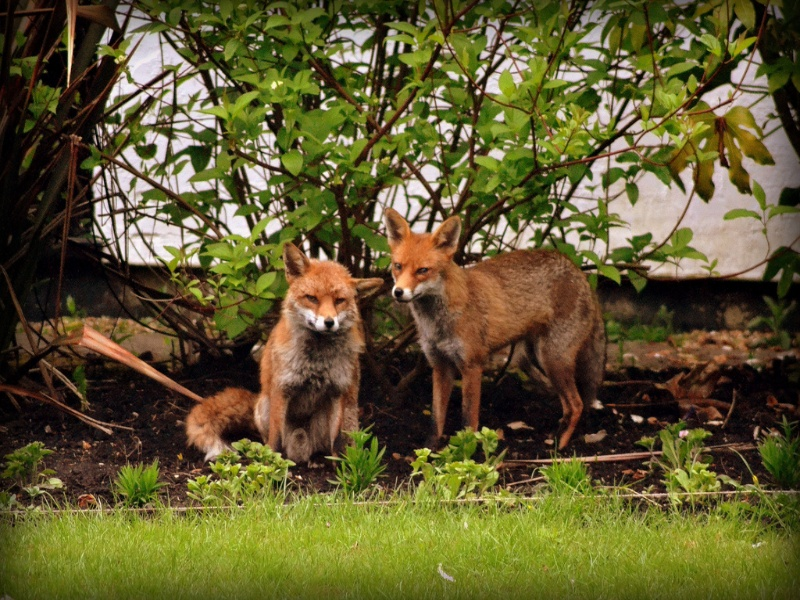fox: (381, 199, 608, 467), (183, 241, 385, 467)
